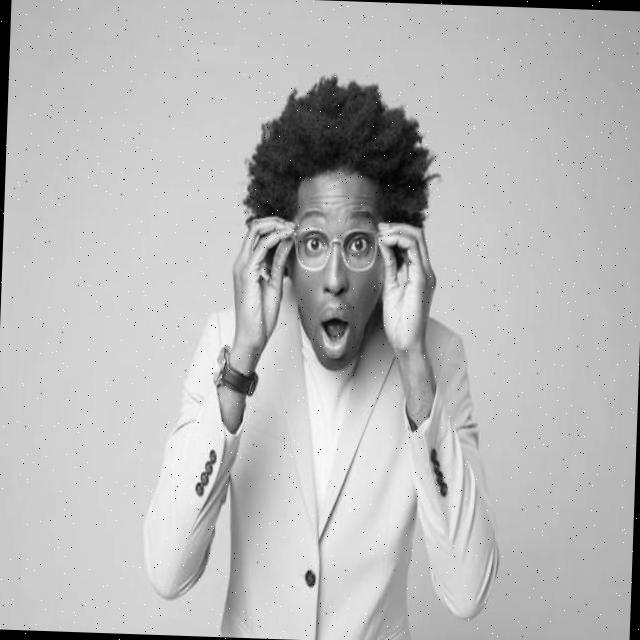Surprised: (284, 168, 392, 368)
